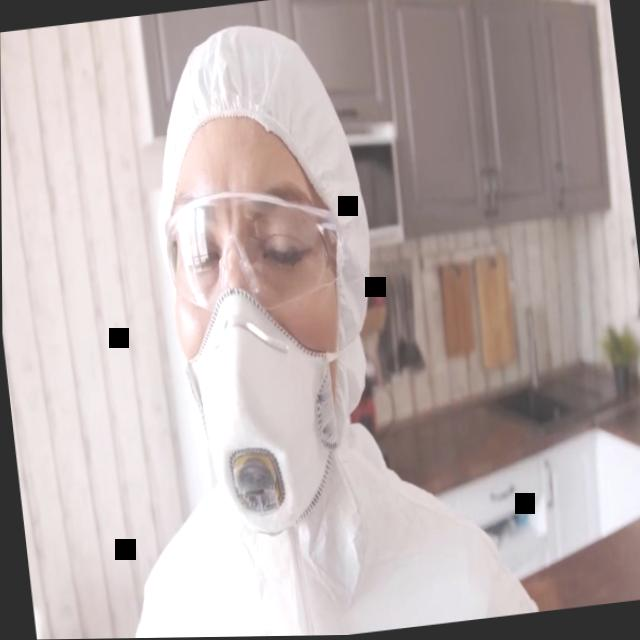Mask: (157, 154, 366, 545)
